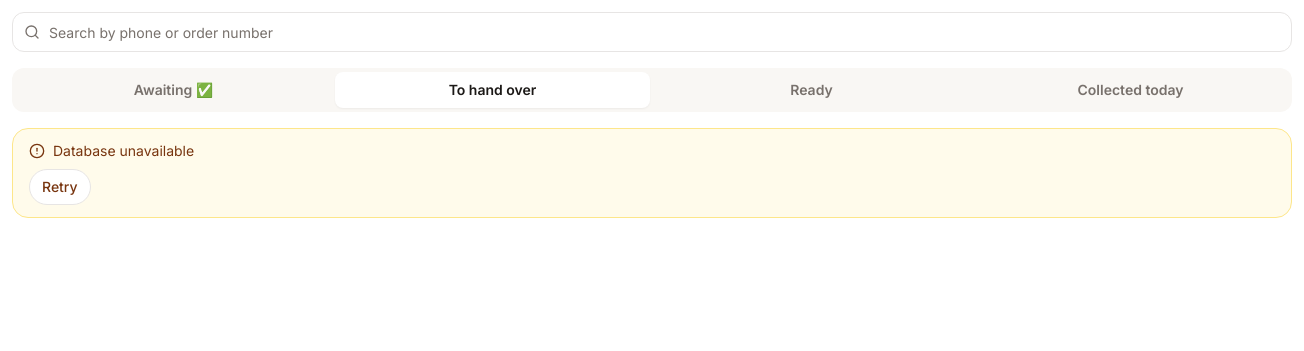
Test: load errors (spec §5) › a failed first load shows the banner with Retry, not the empty state
Expected: the message shows "Database unavailable", [53,142,194,159]
Click the button "Retry" at [60, 187], box [29,169,91,205]
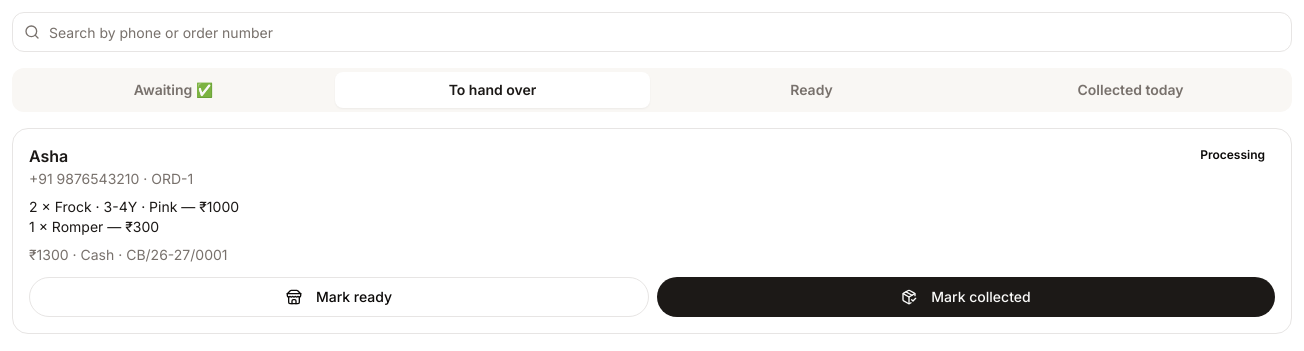
Expected: the message "Database unavailable Retry" is gone
